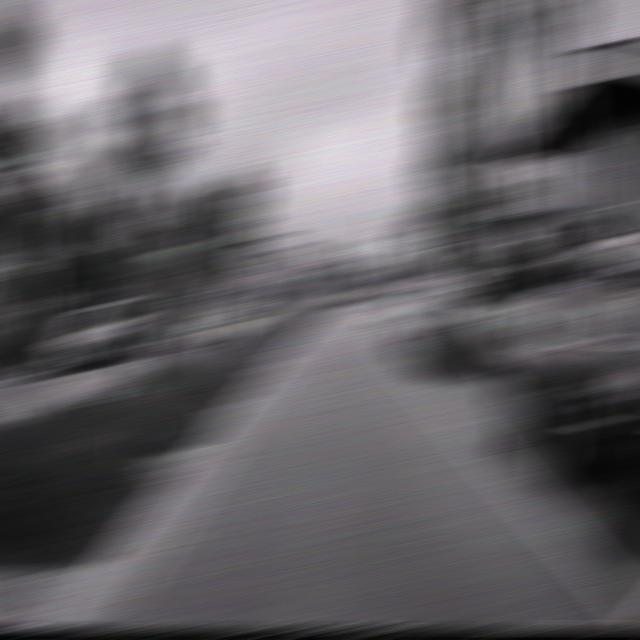speedLimit25: (432, 216, 466, 247)
